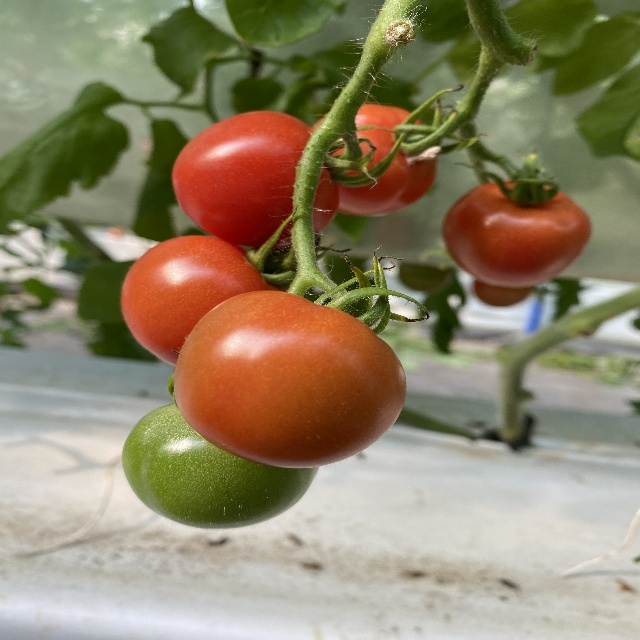l_fully_ripened: (172, 110, 342, 249), (121, 234, 289, 367), (442, 180, 593, 288), (313, 104, 438, 217)
l_green: (121, 401, 319, 530)
l_half_ripened: (173, 290, 407, 469)
